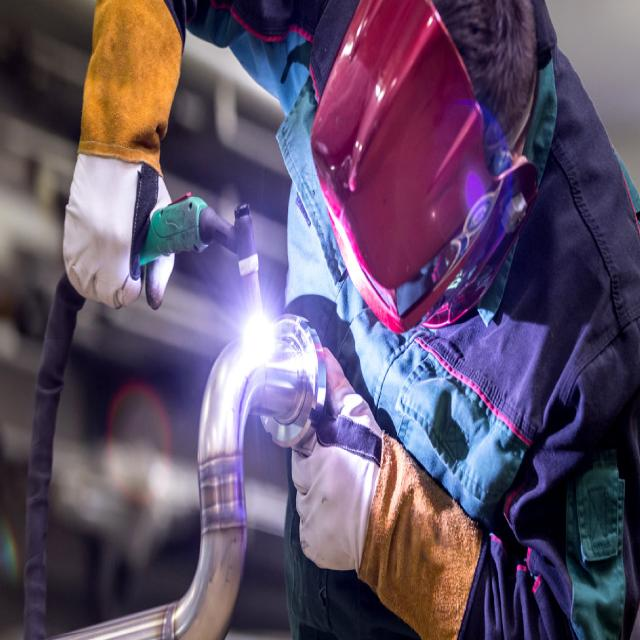welding: (239, 308, 281, 367)
